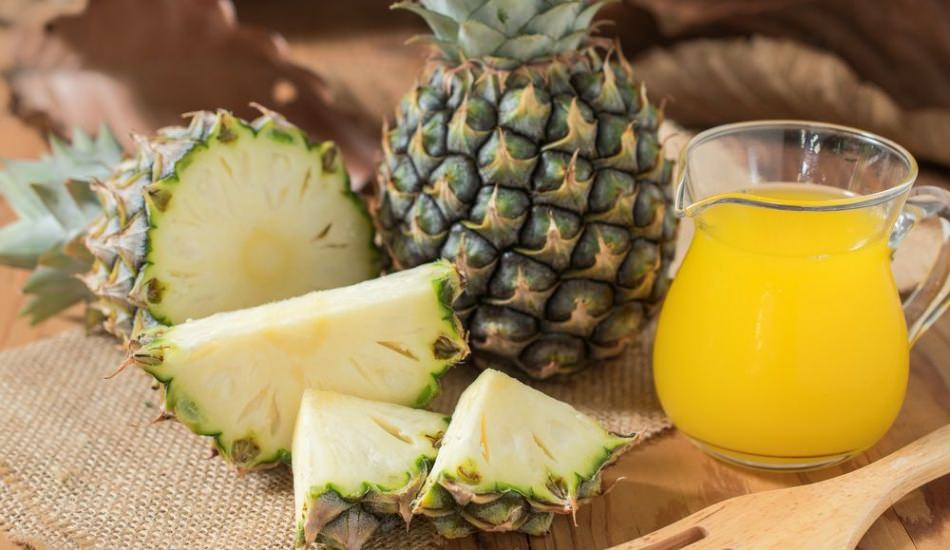pineapple: (377, 45, 676, 375)
